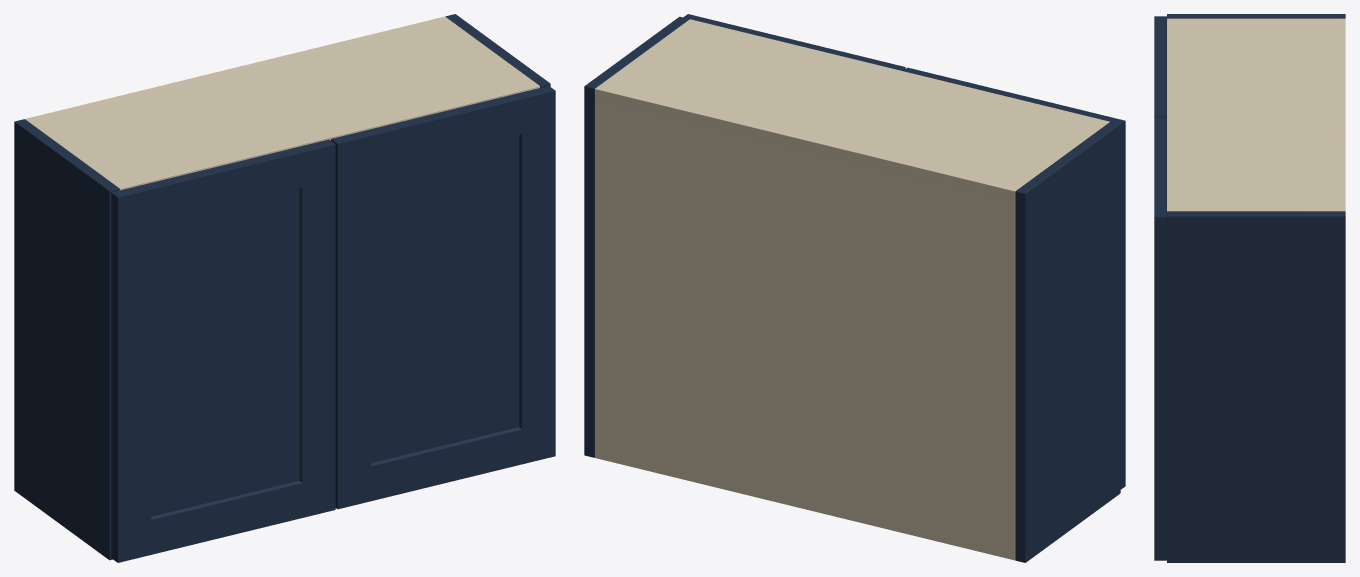
Rendered from oppein-ply-bss-w3024.glb.
3 renders of one model, left to right at view 1: azimuth 30°, elevation 25°; view 2: azimuth 150°, elevation 25°; view 3: azimuth 270°, elevation 25°, orthographic. The views are drawn at different scales.
Parts seen in each view (by area): view 1: Door, Door.001, Cabinet top, Cabinet side, Cabinet back, Cabinet side.001; view 2: Cabinet back, Cabinet top, Cabinet side, Cabinet side.001, Door, Cabinet bottom, Door.001; view 3: Cabinet side.001, Cabinet top, Door.001, Cabinet back, Door, Cabinet side.
Boxes of the visible parts, box(x1,y1,x2,y2) form: Door: box(111, 139, 335, 562); Door.001: box(331, 86, 555, 509); Cabinet top: box(25, 17, 539, 190); Cabinet side: box(14, 119, 119, 560); Cabinet back: box(25, 16, 448, 121); Cabinet side.001: box(445, 14, 550, 87); Cabinet back: box(595, 86, 1018, 560); Cabinet top: box(595, 19, 1109, 200); Cabinet side: box(1015, 122, 1120, 562); Cabinet side.001: box(584, 16, 689, 457); Door: box(903, 67, 1125, 489); Cabinet bottom: box(595, 447, 1014, 558); Door.001: box(683, 14, 905, 70); Cabinet side.001: box(1167, 211, 1345, 562); Cabinet top: box(1167, 18, 1345, 211); Door.001: box(1154, 117, 1166, 560); Cabinet back: box(1338, 18, 1345, 211); Door: box(1154, 16, 1166, 117); Cabinet side: box(1167, 14, 1345, 18).
Size of the model in its own units: 0.762 by 0.6096 by 0.3048.
